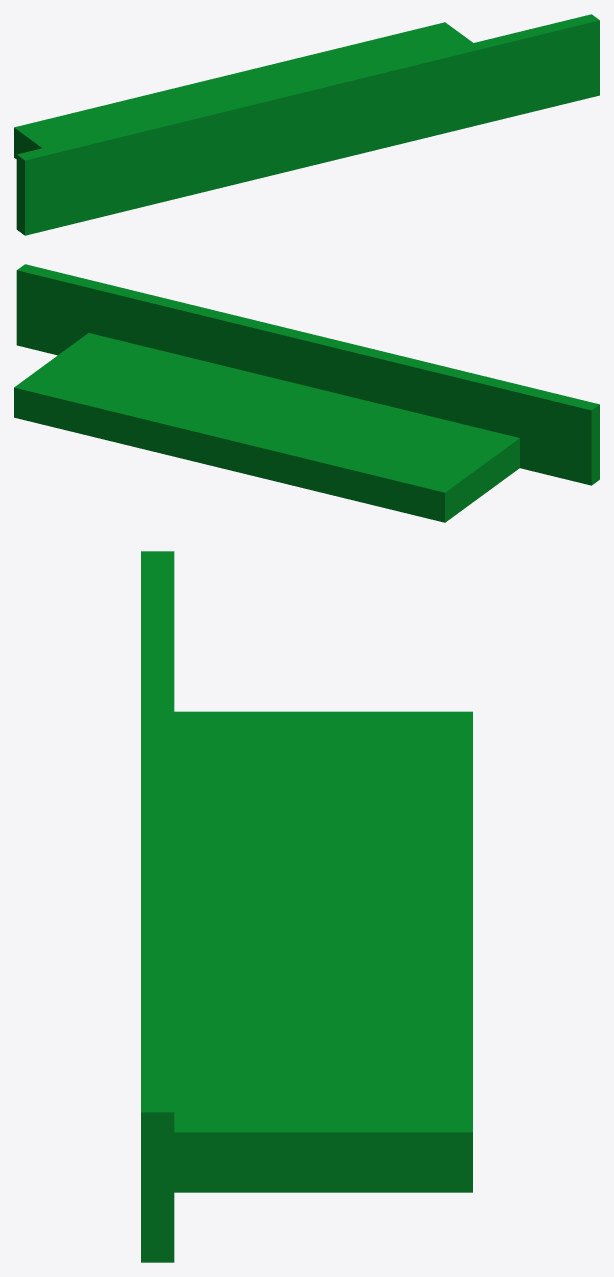
The model's file is center.dae.
The picture shows the model from 3 angles, top to bottom: view 1: azimuth 30°, elevation 25°; view 2: azimuth 150°, elevation 25°; view 3: azimuth 270°, elevation 25°; orthographic projection. The views are drawn at different scales.
Visible parts, largest first — view 1: Cube_100; view 2: Cube_100; view 3: Cube_100.
Part boxes in pixels (x1,y1,x2,y2): Cube_100: (14, 14, 599, 235); Cube_100: (14, 264, 599, 522); Cube_100: (141, 551, 472, 1262).
Bounding box in the file's own units: 0.8 × 0.2 × 0.1.
